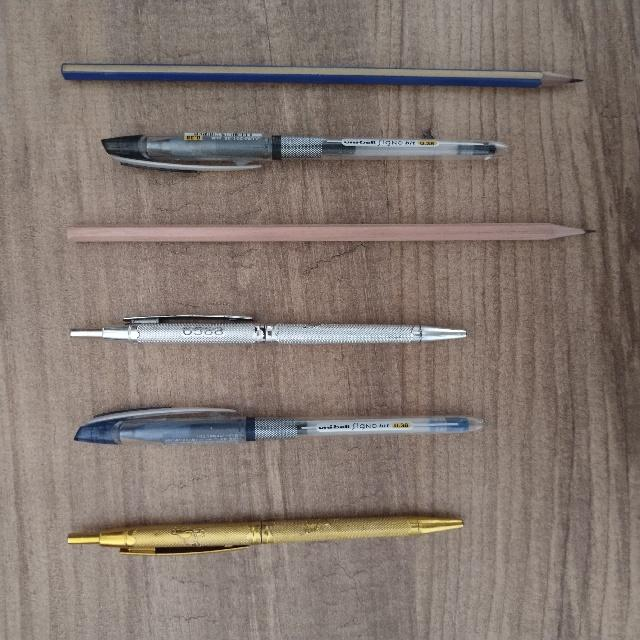pen: (102, 132, 507, 170), (75, 408, 482, 444)
pencil: (61, 63, 579, 87), (67, 223, 589, 242)
signature pen: (68, 515, 462, 554), (70, 315, 465, 344)
